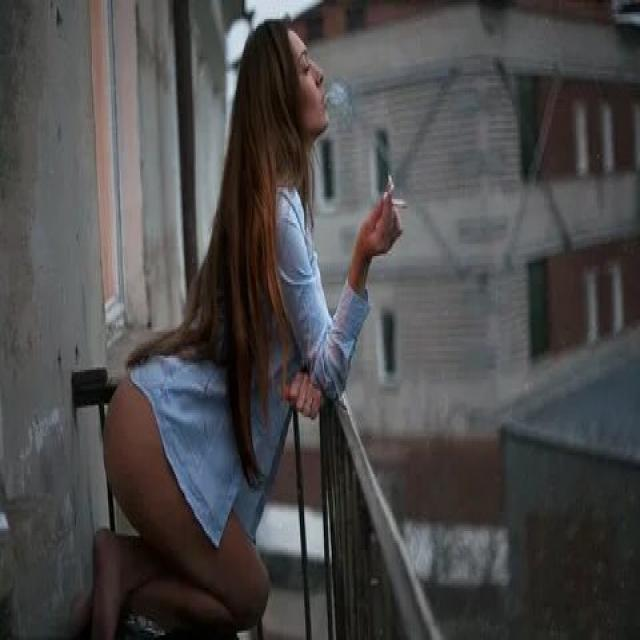cigarette: (382, 194, 410, 216)
